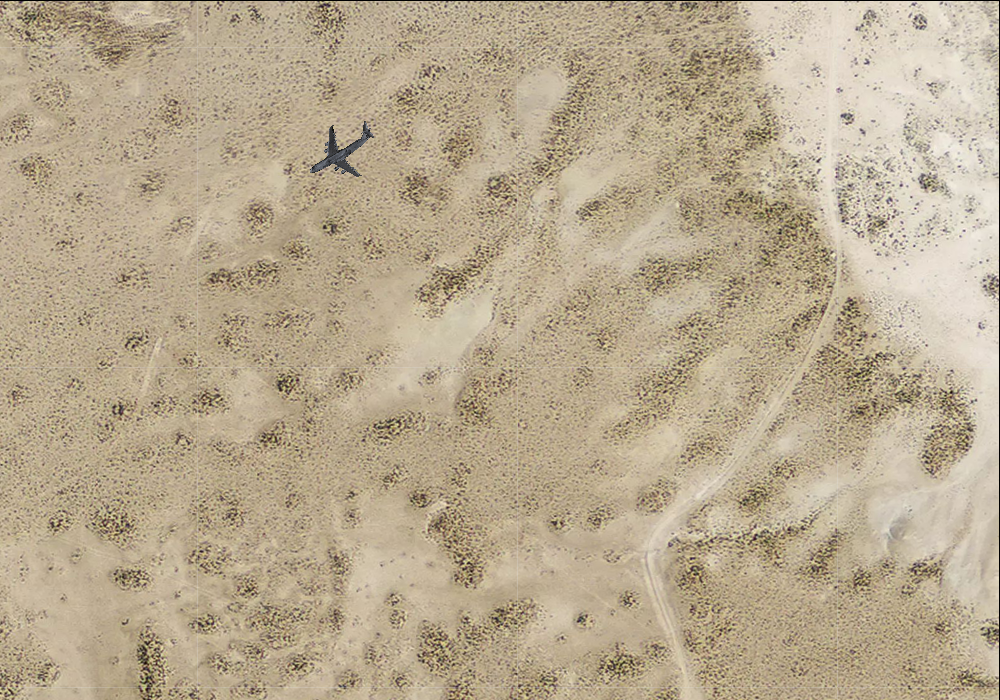plane: (291, 101, 390, 198)
